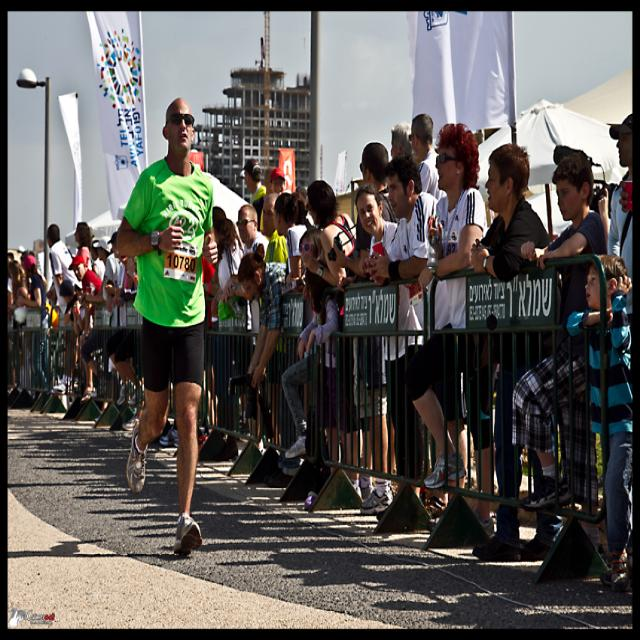Bib: (168, 253, 201, 271)
